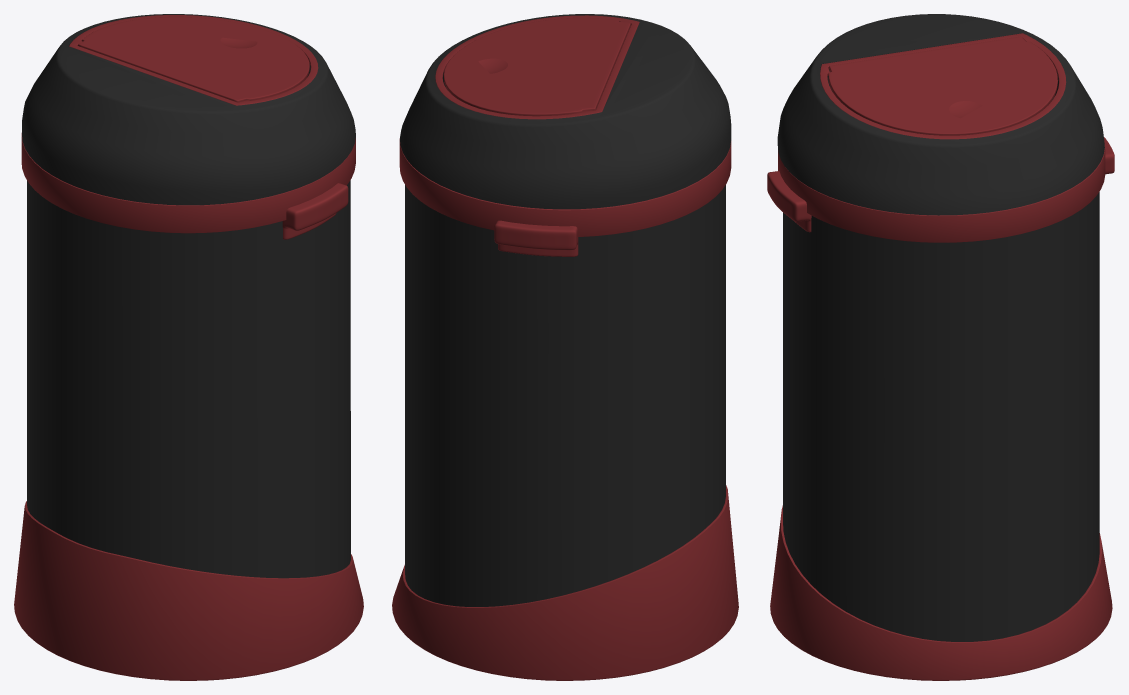
File: Touch bin_dae.DAE
The picture shows the model from 3 angles, left to right: view 1: azimuth 30°, elevation 25°; view 2: azimuth 150°, elevation 25°; view 3: azimuth 270°, elevation 25°; orthographic projection. The views are drawn at different scales.
Visible parts, largest first — view 1: touch_bin; view 2: touch_bin; view 3: touch_bin.
Boxes of the visible parts, bbox=[...] form: touch_bin: bbox=[14, 14, 363, 680]; touch_bin: bbox=[392, 14, 738, 680]; touch_bin: bbox=[767, 14, 1114, 680].
Bounding box in the file's own units: 17.9 × 31.35 × 18.17.
